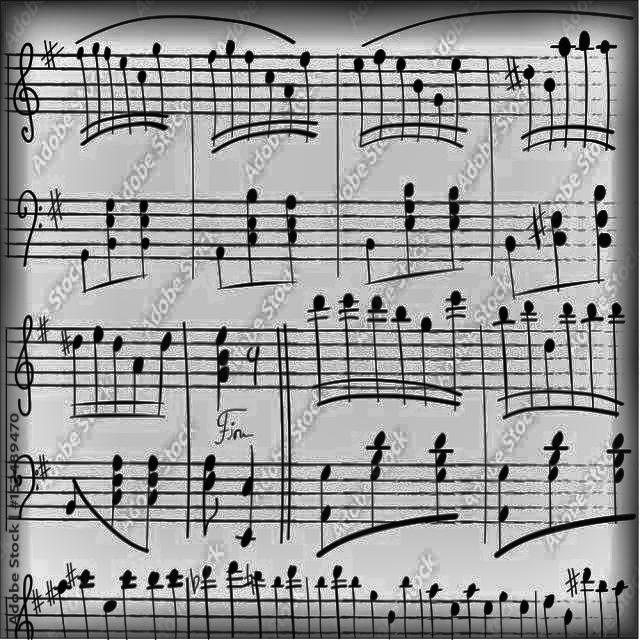Bass-clef: (13, 177, 37, 275), (14, 448, 34, 536)
Bemol: (187, 563, 201, 597)
Diez: (36, 34, 66, 76), (47, 184, 73, 232), (527, 198, 545, 252), (500, 54, 520, 94), (36, 306, 52, 349), (36, 450, 56, 482), (564, 566, 580, 606), (42, 576, 56, 612), (60, 323, 72, 361), (64, 556, 76, 588), (32, 589, 44, 619)
Eighth-note: (428, 427, 456, 523), (366, 432, 390, 536), (242, 186, 264, 290), (399, 178, 421, 282), (544, 430, 564, 534), (590, 182, 610, 286), (548, 206, 572, 290), (280, 188, 300, 288), (609, 429, 629, 528), (143, 452, 161, 558), (317, 463, 335, 561), (444, 181, 462, 271), (103, 199, 121, 285), (108, 447, 124, 541), (202, 452, 218, 540), (136, 200, 152, 288), (496, 461, 510, 559), (502, 236, 522, 296), (360, 237, 380, 290), (65, 471, 81, 524), (210, 245, 228, 292), (78, 244, 90, 300)
Half-note: (244, 335, 264, 389)
Quarter-note: (238, 444, 264, 548), (210, 322, 230, 412)
Sixteenth-note: (306, 290, 330, 414), (446, 284, 466, 408), (339, 288, 359, 408), (581, 301, 601, 414), (496, 303, 514, 422), (559, 296, 577, 410), (72, 46, 91, 150), (152, 329, 172, 427), (520, 296, 536, 412), (608, 302, 624, 418), (222, 31, 238, 145), (556, 33, 572, 147), (596, 37, 612, 151), (368, 292, 384, 406), (394, 302, 410, 411), (576, 27, 590, 150), (295, 49, 313, 140), (352, 53, 368, 147), (448, 55, 464, 149), (418, 316, 434, 408), (392, 56, 408, 144), (205, 50, 219, 150), (372, 44, 386, 144), (90, 36, 102, 152), (90, 320, 104, 418), (118, 54, 134, 138), (153, 38, 167, 134), (70, 332, 84, 426), (111, 334, 125, 422), (521, 65, 535, 152), (104, 42, 116, 138), (242, 48, 254, 142), (542, 76, 556, 150), (541, 336, 555, 410), (134, 70, 150, 134), (261, 70, 273, 140), (412, 76, 424, 144), (132, 352, 144, 420), (431, 90, 444, 146), (282, 81, 294, 139)
Treble-clef: (8, 304, 36, 420), (10, 40, 38, 144)
